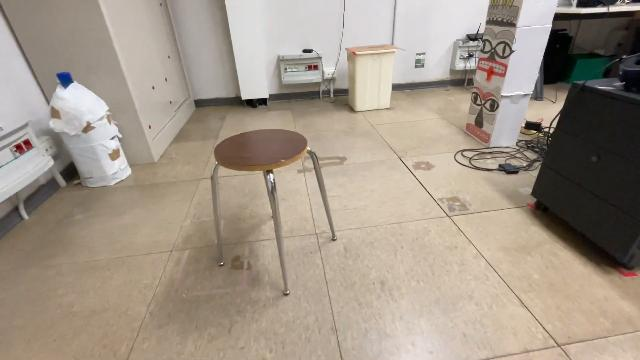Stool: (206, 126, 340, 302)
